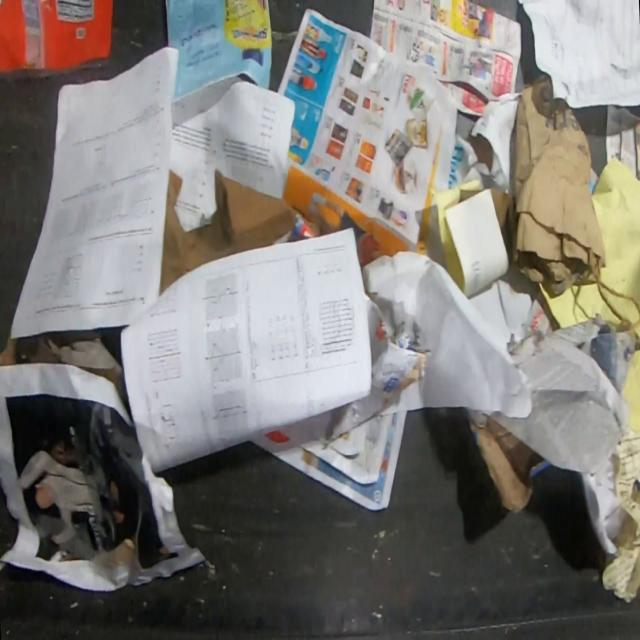cardboard: (159, 167, 295, 295), (463, 410, 551, 514)
